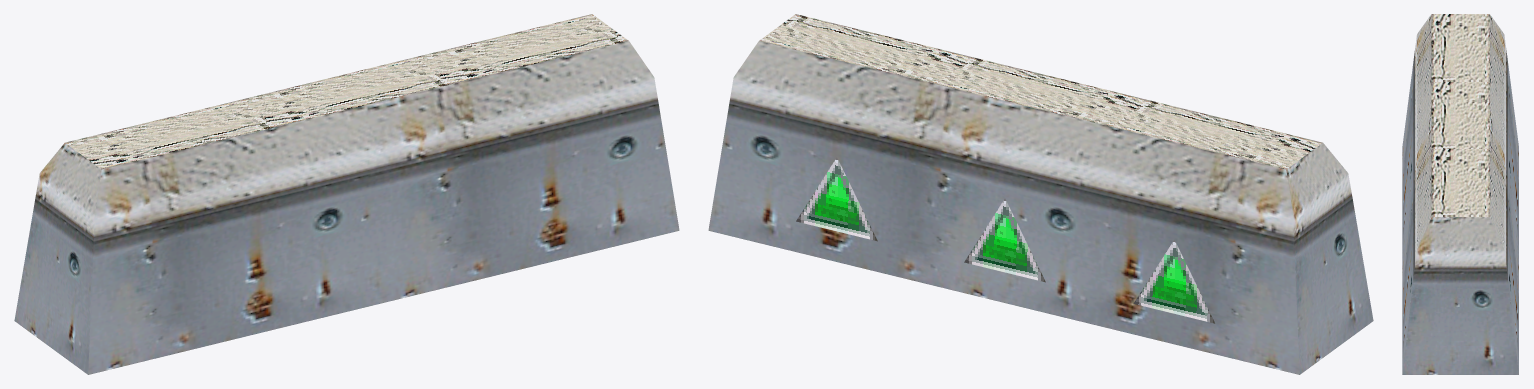
Rendered from LittleSpeedBumpThingy.obj.
3 views of the same model, side by side, from view 1: azimuth 30°, elevation 25°; view 2: azimuth 150°, elevation 25°; view 3: azimuth 270°, elevation 25° (orthographic). The views are drawn at different scales.
Size of the model in its own units: 37 by 11 by 8.04.
Materials: 3 (3 with a texture image).
